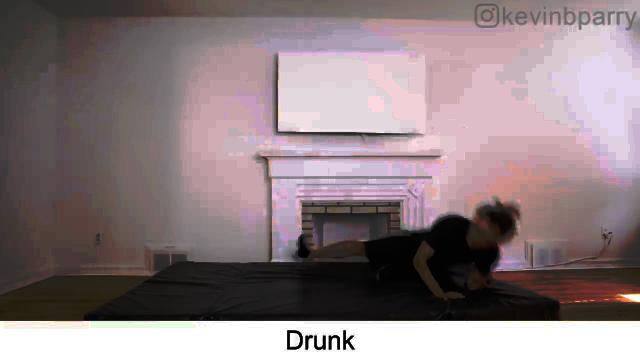jatuh: (276, 188, 532, 304)
